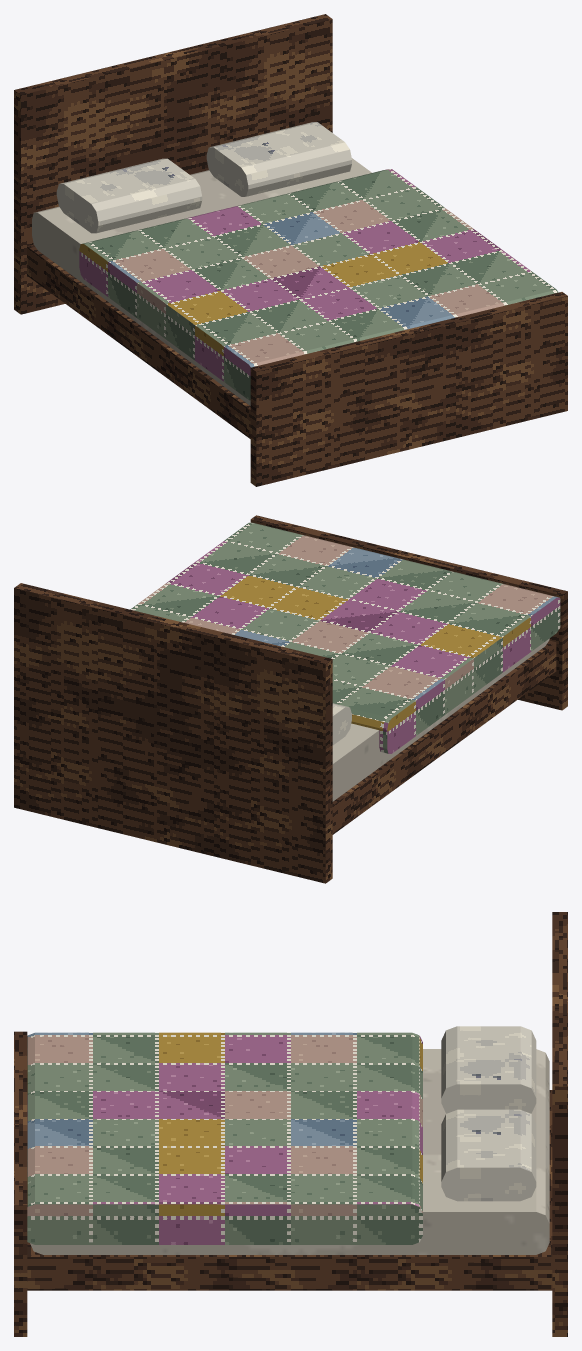
The model's file is RES_Bed_Double.obj.
3 renders of one model, top to bottom at view 1: azimuth 30°, elevation 25°; view 2: azimuth 150°, elevation 25°; view 3: azimuth 270°, elevation 25°, orthographic. The views are drawn at different scales.
Visible parts, largest first — view 1: RES_Bed_Double_Mesh_M_Furn_WoodDark, RES_Bed_Double_Mesh_M_Res_Quilt, RES_Bed_Double_Mesh_M_Town_PaintWhite, RES_Bed_Double_Mesh_M_Int_DrywallLight; view 2: RES_Bed_Double_Mesh_M_Furn_WoodDark, RES_Bed_Double_Mesh_M_Res_Quilt, RES_Bed_Double_Mesh_M_Int_DrywallLight, RES_Bed_Double_Mesh_M_Town_PaintWhite; view 3: RES_Bed_Double_Mesh_M_Res_Quilt, RES_Bed_Double_Mesh_M_Furn_WoodDark, RES_Bed_Double_Mesh_M_Town_PaintWhite, RES_Bed_Double_Mesh_M_Int_DrywallLight.
Part boxes in pixels (x1,y1,x2,y2): RES_Bed_Double_Mesh_M_Furn_WoodDark: (14,14,567,486); RES_Bed_Double_Mesh_M_Res_Quilt: (79,169,558,400); RES_Bed_Double_Mesh_M_Town_PaintWhite: (56,122,351,233); RES_Bed_Double_Mesh_M_Int_DrywallLight: (32,158,371,405); RES_Bed_Double_Mesh_M_Furn_WoodDark: (14,515,567,883); RES_Bed_Double_Mesh_M_Res_Quilt: (130,522,560,753); RES_Bed_Double_Mesh_M_Int_DrywallLight: (332,638,549,801); RES_Bed_Double_Mesh_M_Town_PaintWhite: (332,703,351,745); RES_Bed_Double_Mesh_M_Res_Quilt: (27,1032,422,1244); RES_Bed_Double_Mesh_M_Furn_WoodDark: (14,912,567,1336); RES_Bed_Double_Mesh_M_Town_PaintWhite: (441,1026,536,1201); RES_Bed_Double_Mesh_M_Int_DrywallLight: (30,1049,549,1254).
Size of the model in its own units: 1.56 by 1.05 by 2.1.
Materials: 4 (4 with a texture image).
